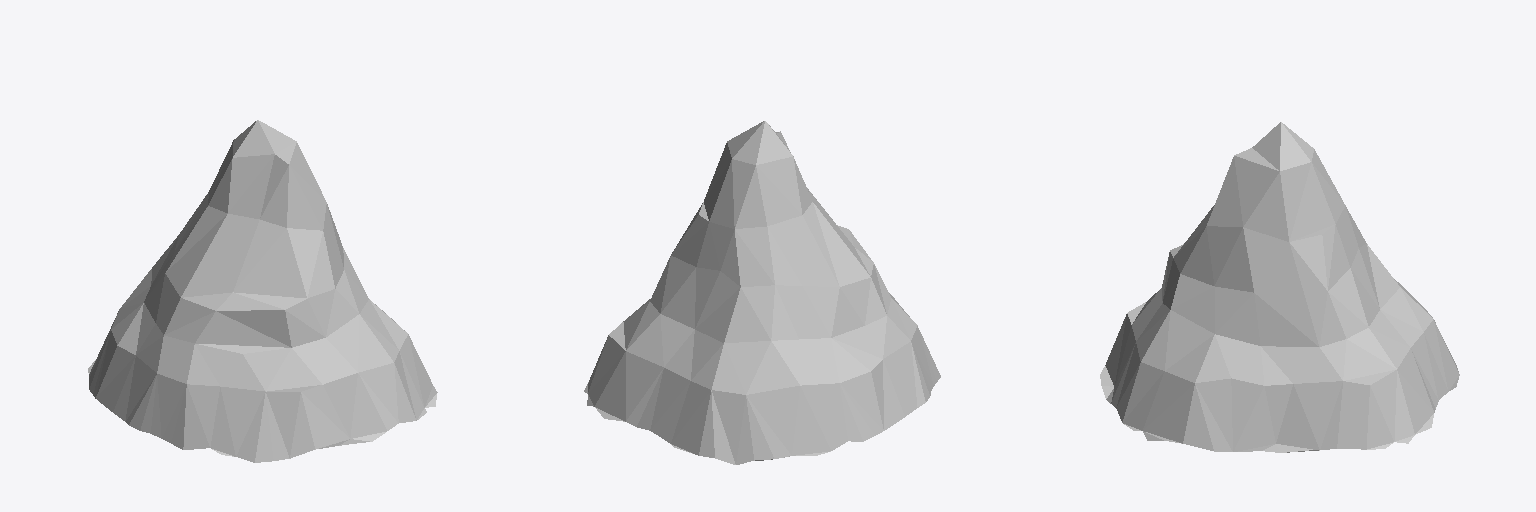
The model's file is Mountain_2_Snow_LOD_Low.obj.
3 renders of one model, left to right at view 1: azimuth 30°, elevation 25°; view 2: azimuth 150°, elevation 25°; view 3: azimuth 270°, elevation 25°, orthographic.
Visible parts, largest first — view 1: Mountain_2_Snow_LOD_Low_Plane.050; view 2: Mountain_2_Snow_LOD_Low_Plane.050; view 3: Mountain_2_Snow_LOD_Low_Plane.050.
Boxes of the visible parts, <box> form: Mountain_2_Snow_LOD_Low_Plane.050: <box>88,120,437,462</box>; Mountain_2_Snow_LOD_Low_Plane.050: <box>584,121,940,464</box>; Mountain_2_Snow_LOD_Low_Plane.050: <box>1100,122,1459,452</box>.
Size of the model in its own units: 118 by 107 by 129.